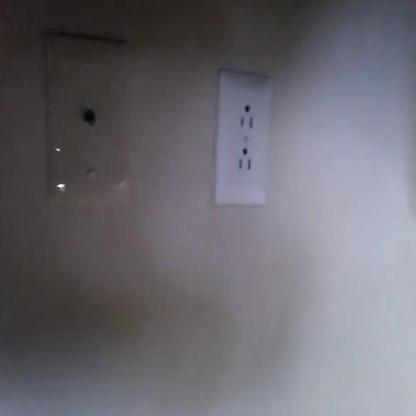OUTLET: (215, 72, 274, 205)
